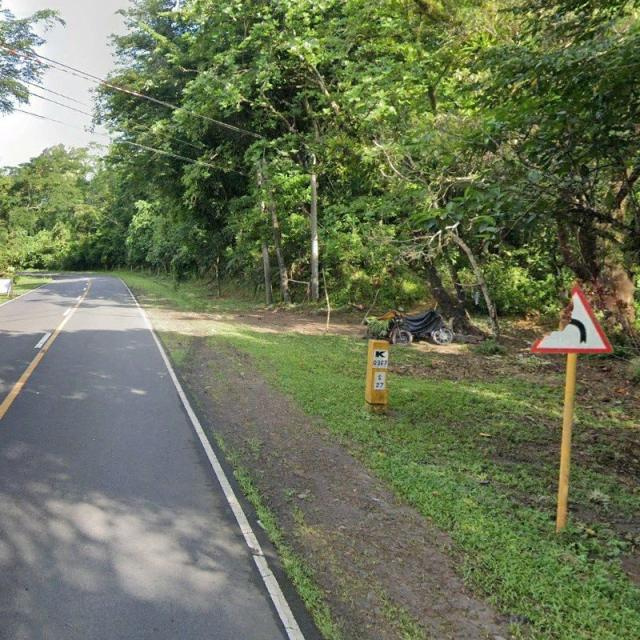warn_left_curve: (532, 283, 614, 355)
